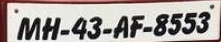character: (16, 16, 40, 40), (41, 16, 61, 40), (112, 15, 129, 39), (166, 11, 182, 35), (71, 17, 87, 40), (87, 16, 102, 39), (129, 14, 144, 37), (153, 13, 168, 36), (181, 11, 196, 34), (195, 11, 210, 33)
